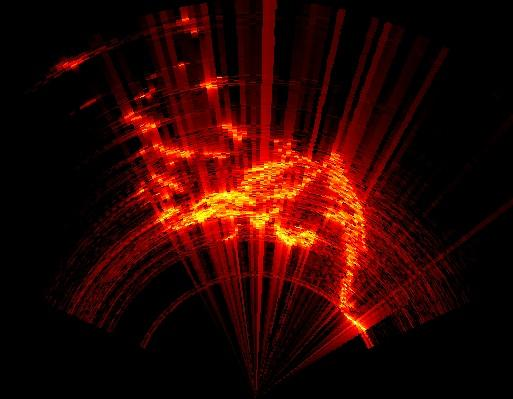shipwreck: (159, 141, 365, 311), (126, 112, 227, 159)
